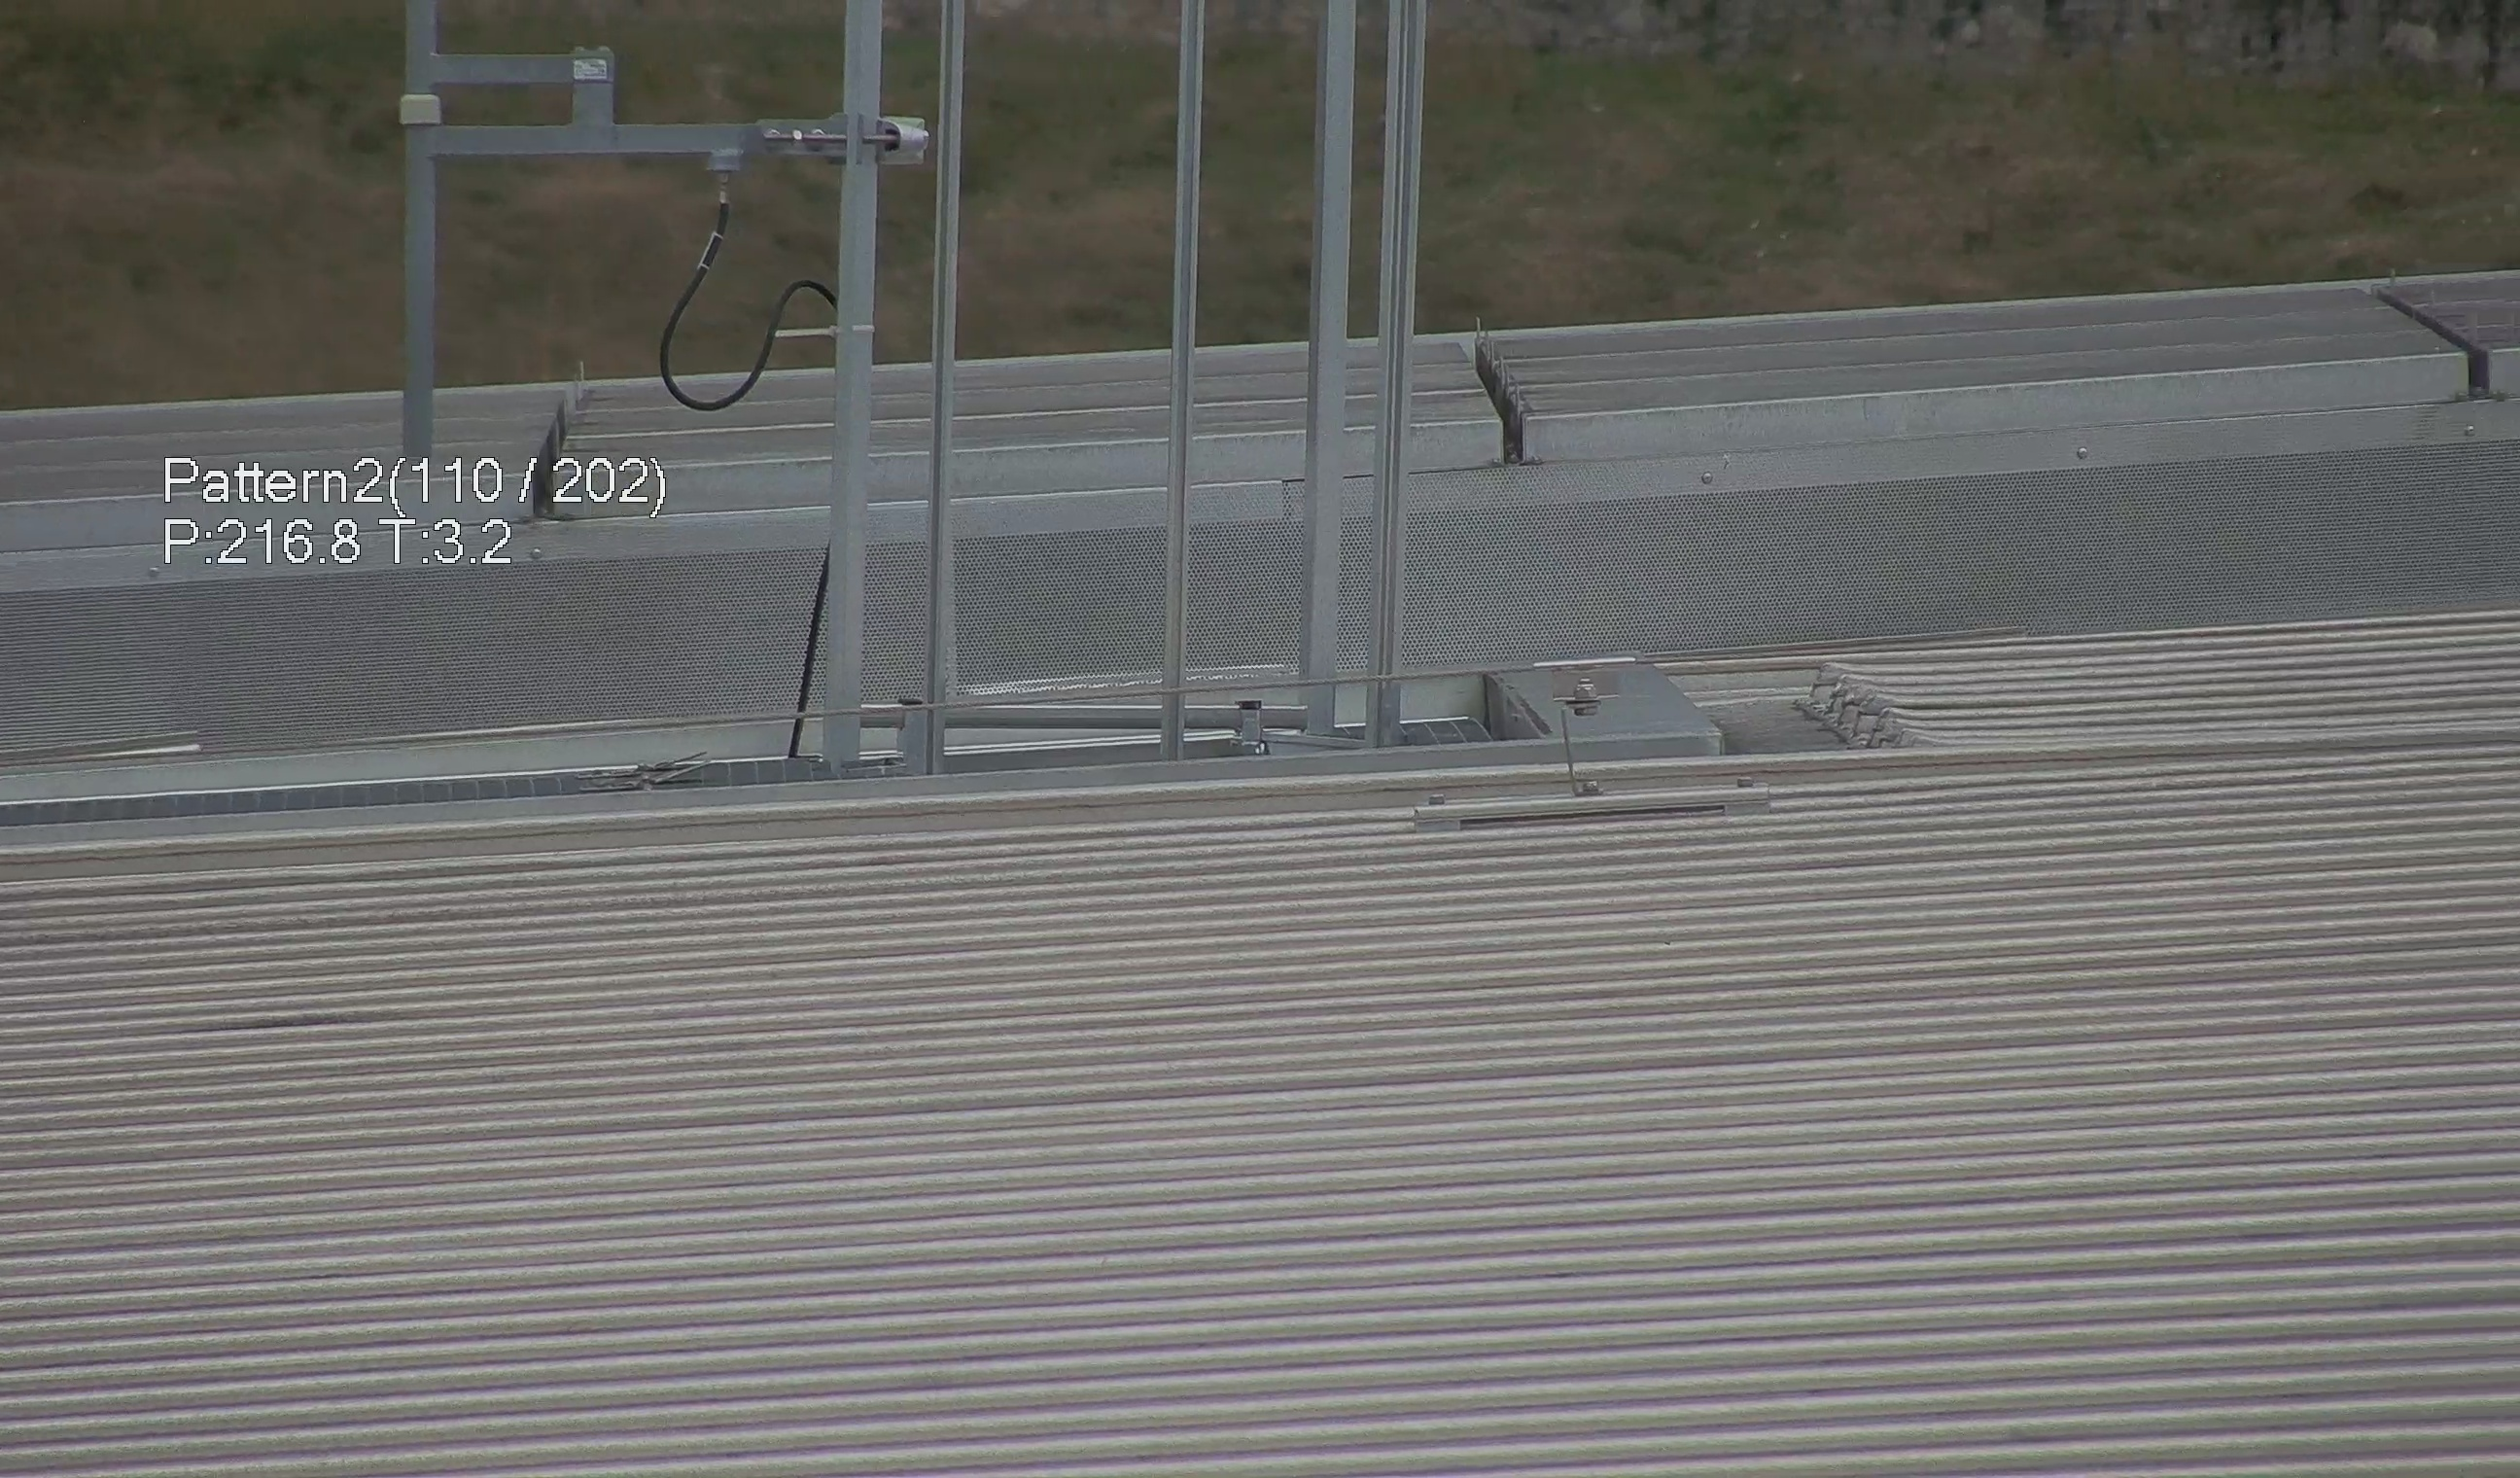Other: (1458, 310, 1542, 461)
